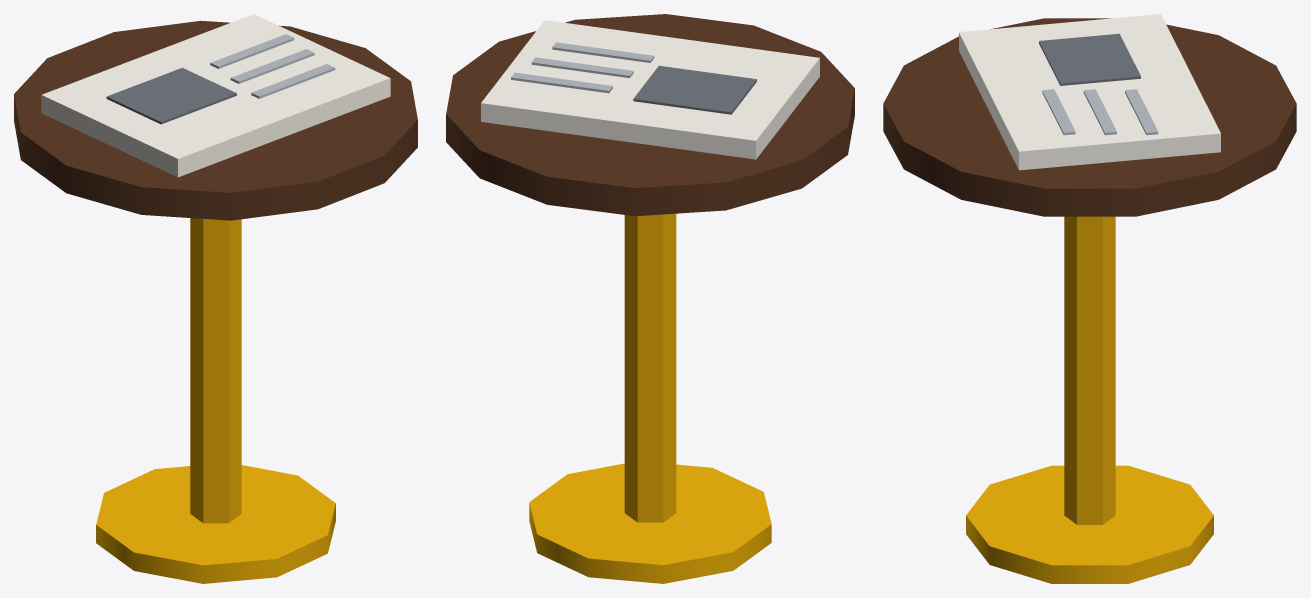
Rendered from station_intake_ausstattung_2_0.glb.
3 views of the same model, side by side, from view 1: azimuth 30°, elevation 25°; view 2: azimuth 150°, elevation 25°; view 3: azimuth 270°, elevation 25° (orthographic).
Parts seen in each view (by area): view 1: station_intake_ausstattung_2_0; view 2: station_intake_ausstattung_2_0; view 3: station_intake_ausstattung_2_0.
Part boxes in pixels (left/top/right/bottom): station_intake_ausstattung_2_0: left=14, top=14, right=417, bottom=583; station_intake_ausstattung_2_0: left=446, top=14, right=854, bottom=583; station_intake_ausstattung_2_0: left=883, top=14, right=1296, bottom=583.
Bounding box in the file's own units: 0.39 × 0.4845 × 0.4.
